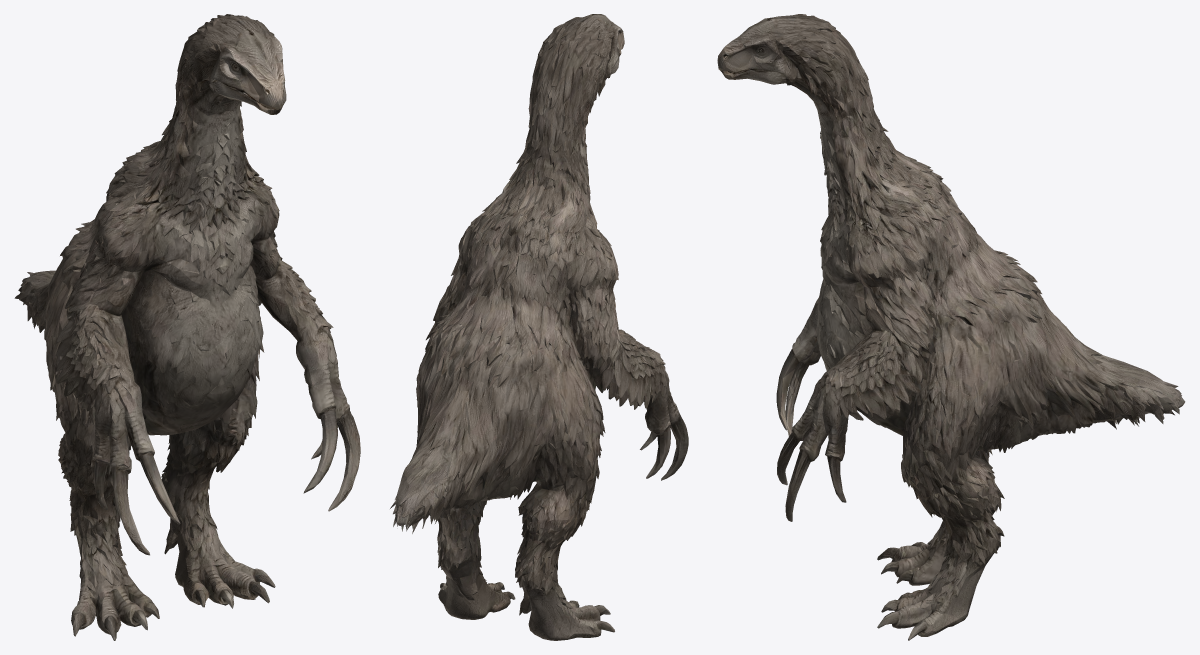
The model's file is theri.glb.
3 renders of one model, left to right at view 1: azimuth 30°, elevation 25°; view 2: azimuth 150°, elevation 25°; view 3: azimuth 270°, elevation 25°, orthographic. The views are drawn at different scales.
Bounding box in the file's own units: 0.7715 × 1.9 × 1.39.
1 material, 1 textured.
